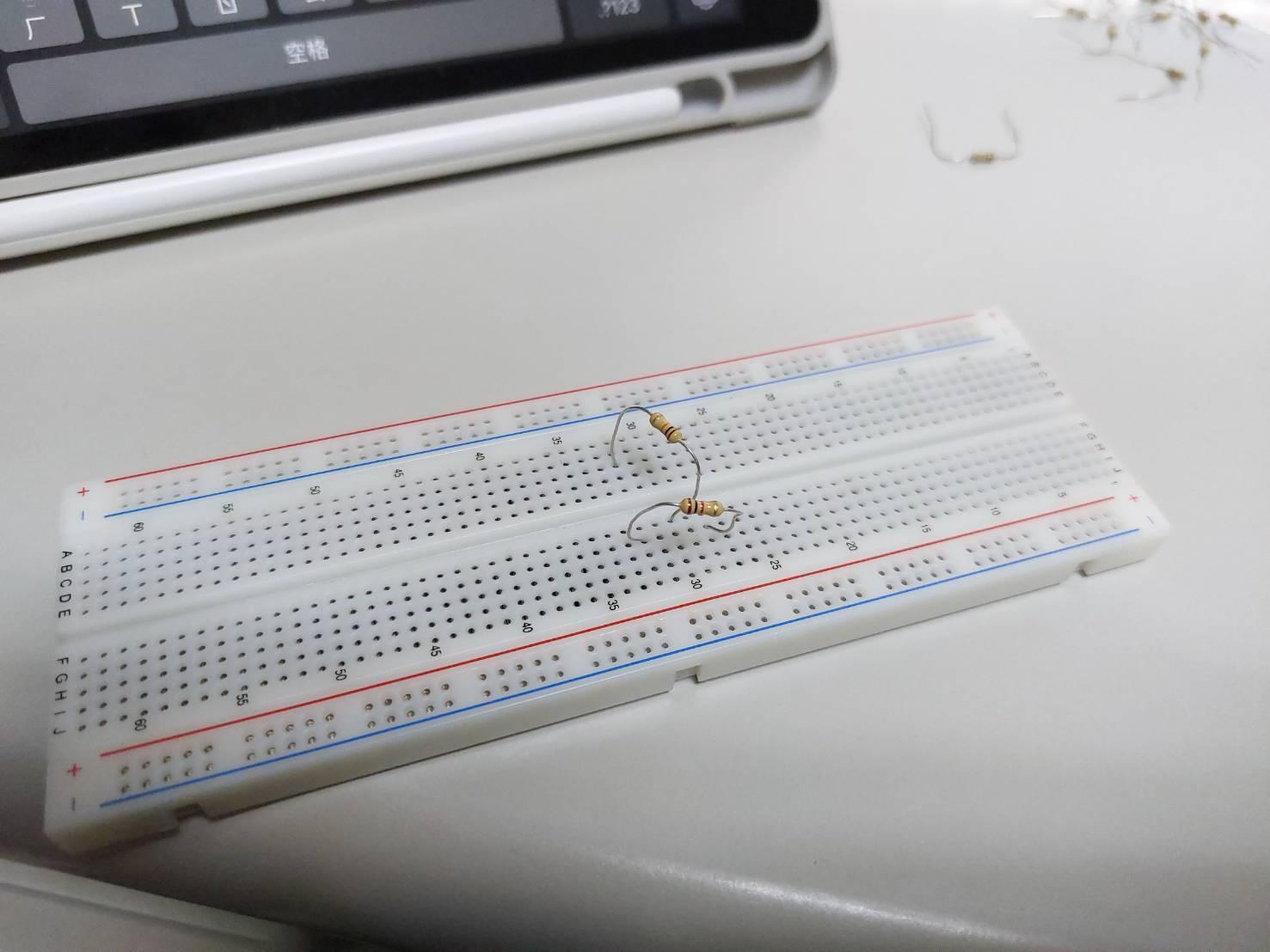resistor: (649, 411, 682, 443), (679, 498, 725, 517)
